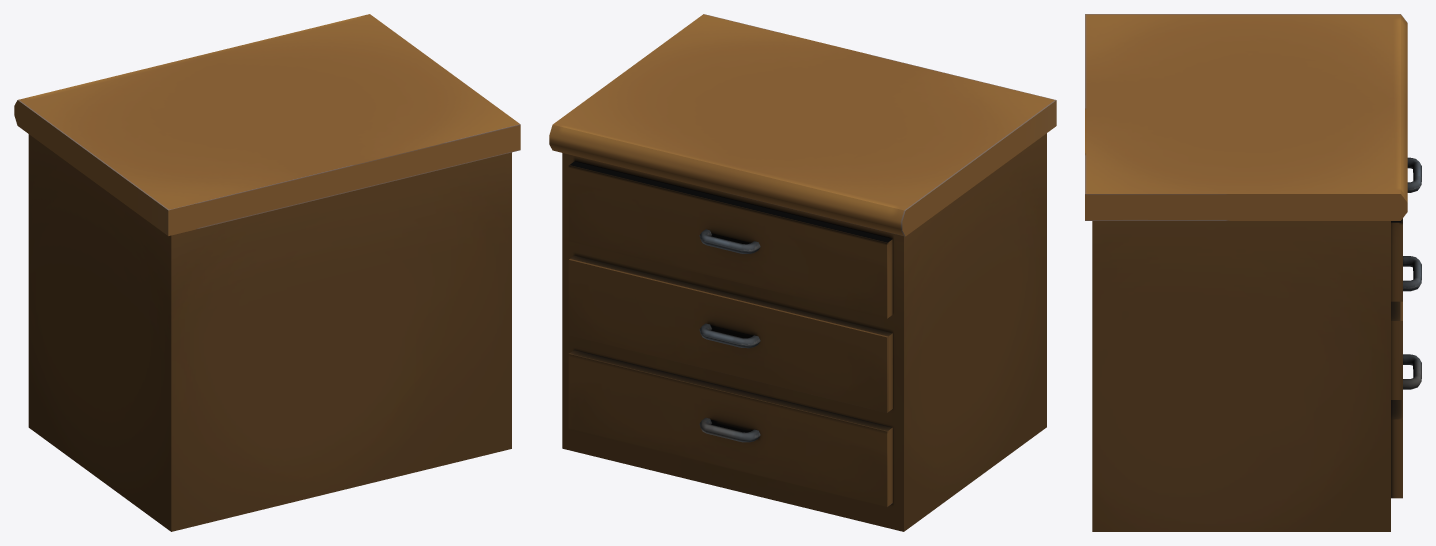
Rendered from nightstand.fbx.
The picture shows the model from 3 angles, left to right: view 1: azimuth 30°, elevation 25°; view 2: azimuth 150°, elevation 25°; view 3: azimuth 270°, elevation 25°; orthographic projection. The views are drawn at different scales.
Visible parts, largest first — view 1: nightstand; view 2: nightstand; view 3: nightstand.
Boxes of the visible parts, x1,y1,x2,y2 form: nightstand: (14, 14, 520, 531); nightstand: (549, 14, 1056, 531); nightstand: (1085, 14, 1421, 531).
Bounding box in the file's own units: 131 × 116 × 104.
Materials: 1 (1 with a texture image).
